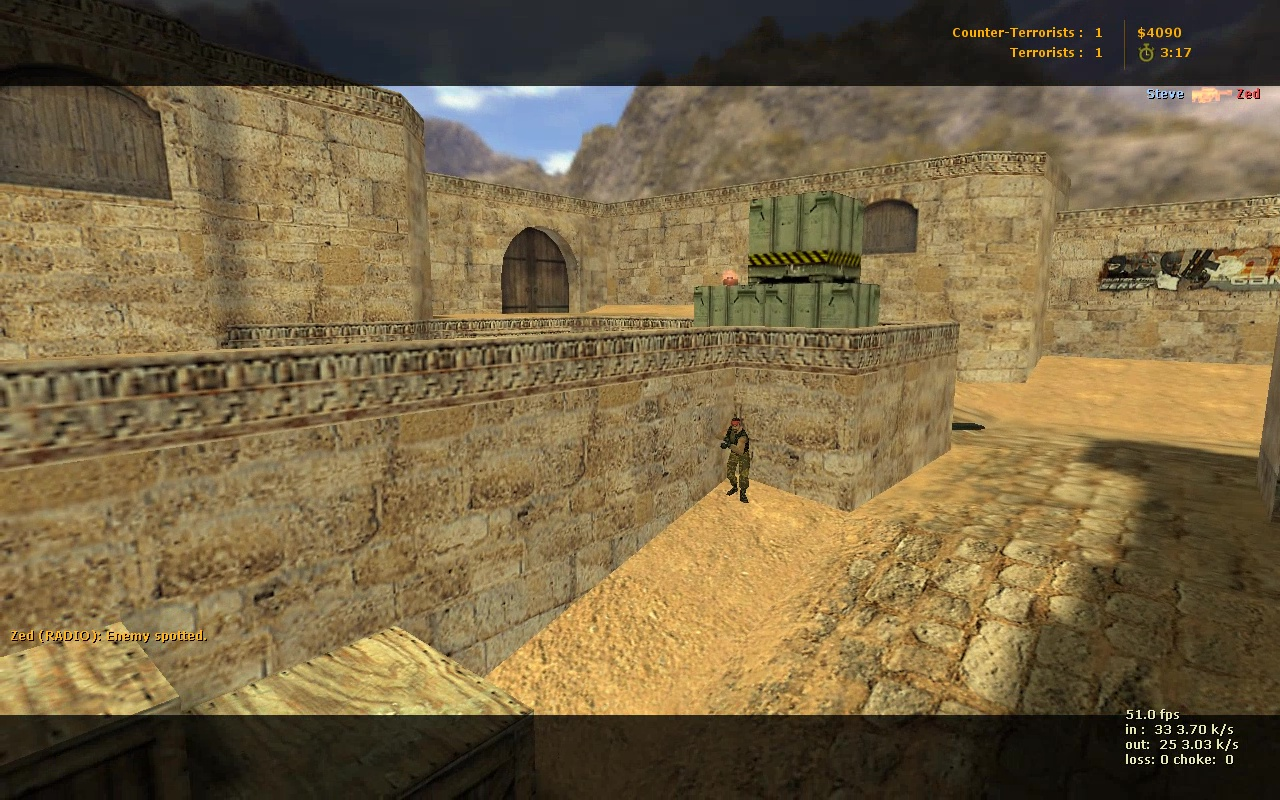terr1: (719, 417, 755, 500)
